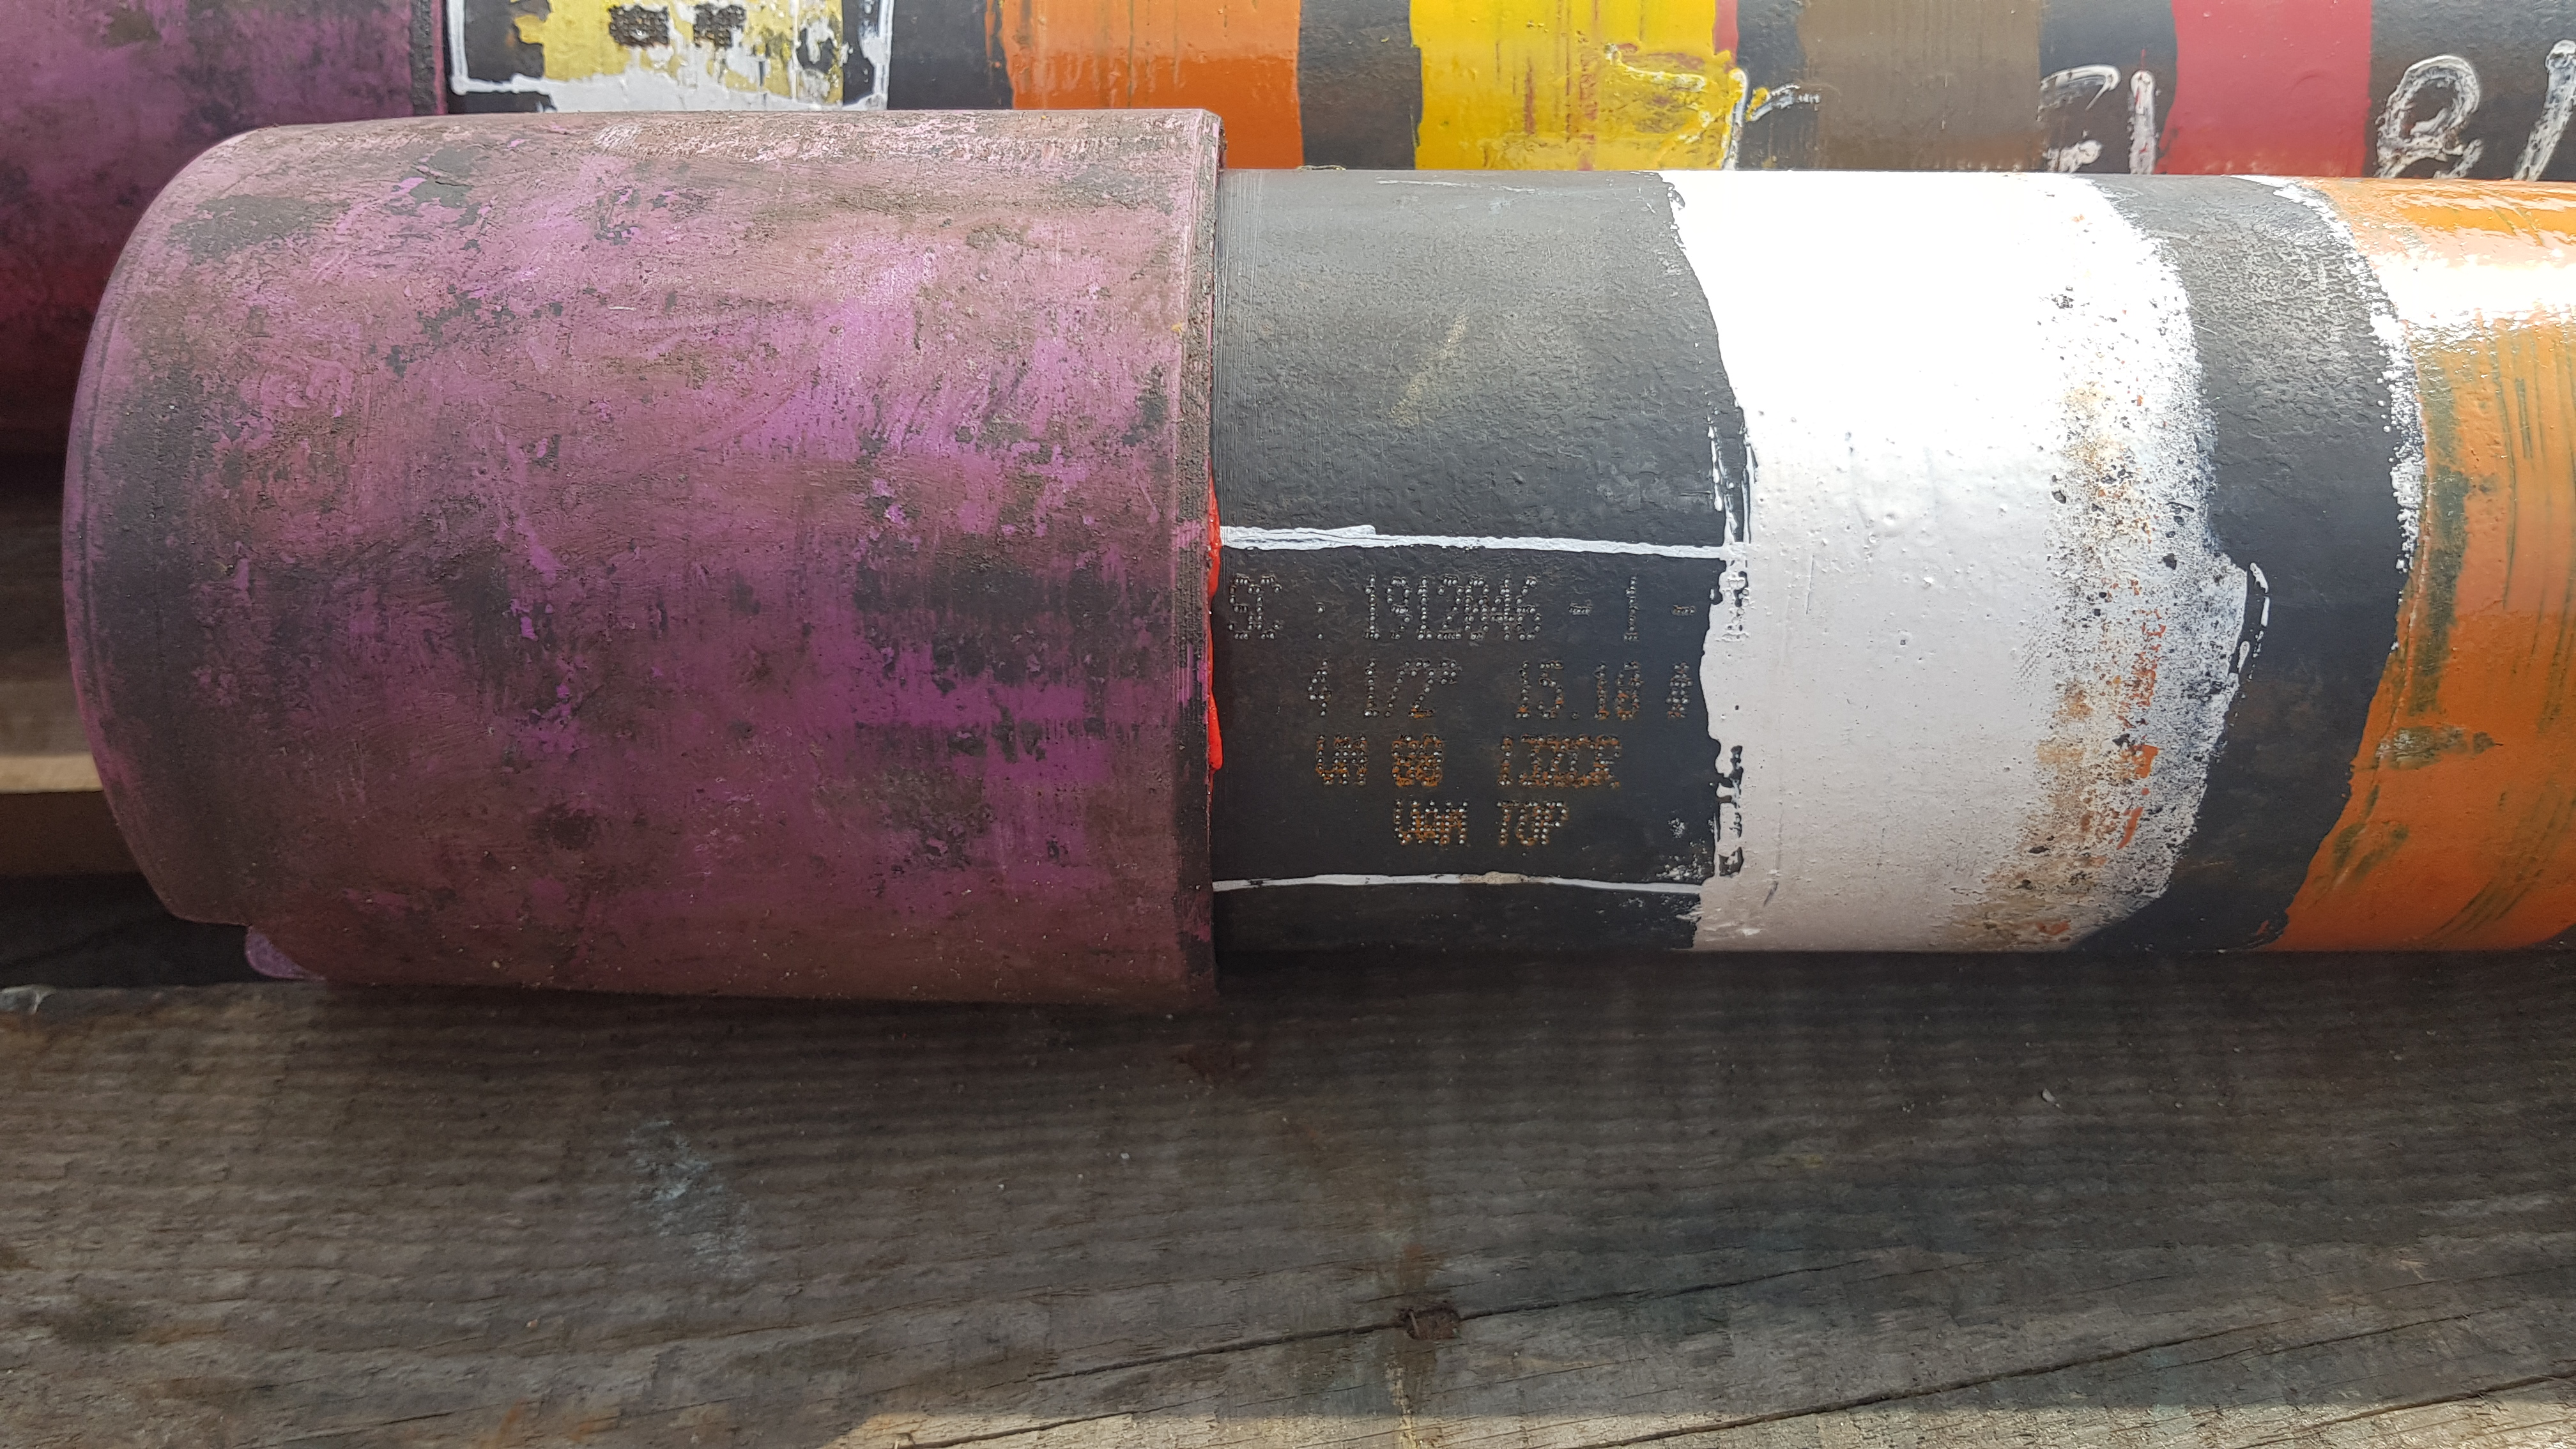character: (1617, 573, 1654, 655), (1251, 571, 1292, 644), (1458, 577, 1495, 651), (1300, 660, 1343, 724), (1224, 568, 1258, 648), (1509, 575, 1543, 651), (1661, 660, 1695, 734), (1407, 571, 1438, 646), (1384, 577, 1417, 646), (1355, 570, 1387, 642), (1484, 573, 1514, 649), (1433, 573, 1465, 644), (1530, 658, 1566, 720), (1355, 655, 1387, 722), (1339, 736, 1378, 791), (1408, 660, 1442, 720), (1539, 800, 1575, 856), (1435, 800, 1474, 851), (1419, 734, 1451, 796), (1514, 731, 1546, 793), (1311, 729, 1343, 789), (1594, 734, 1624, 796), (1617, 660, 1644, 729), (1566, 734, 1596, 793), (1385, 798, 1421, 847), (1545, 736, 1569, 800), (1589, 662, 1612, 729), (1511, 662, 1536, 722), (1394, 734, 1419, 793), (1490, 800, 1518, 847), (1518, 801, 1545, 851), (1417, 800, 1444, 847), (1495, 738, 1516, 796)
